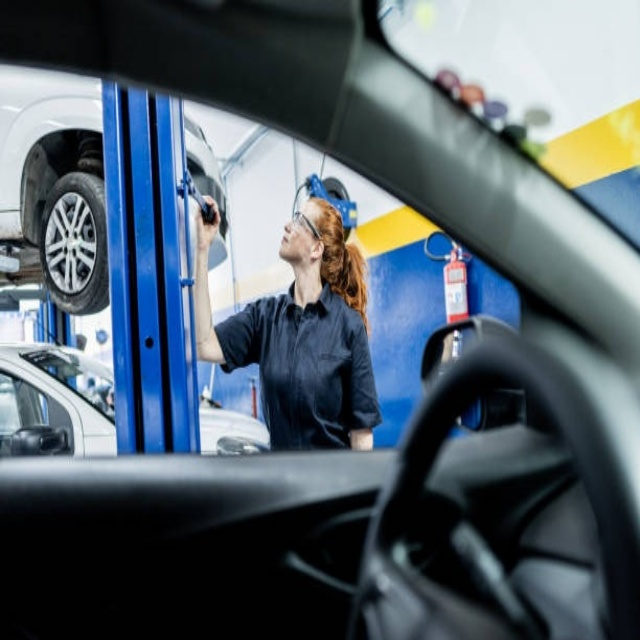Gafas: (293, 211, 323, 242)
Sin_guantes: (189, 192, 223, 246)
Sin_mascara: (276, 225, 292, 260)
